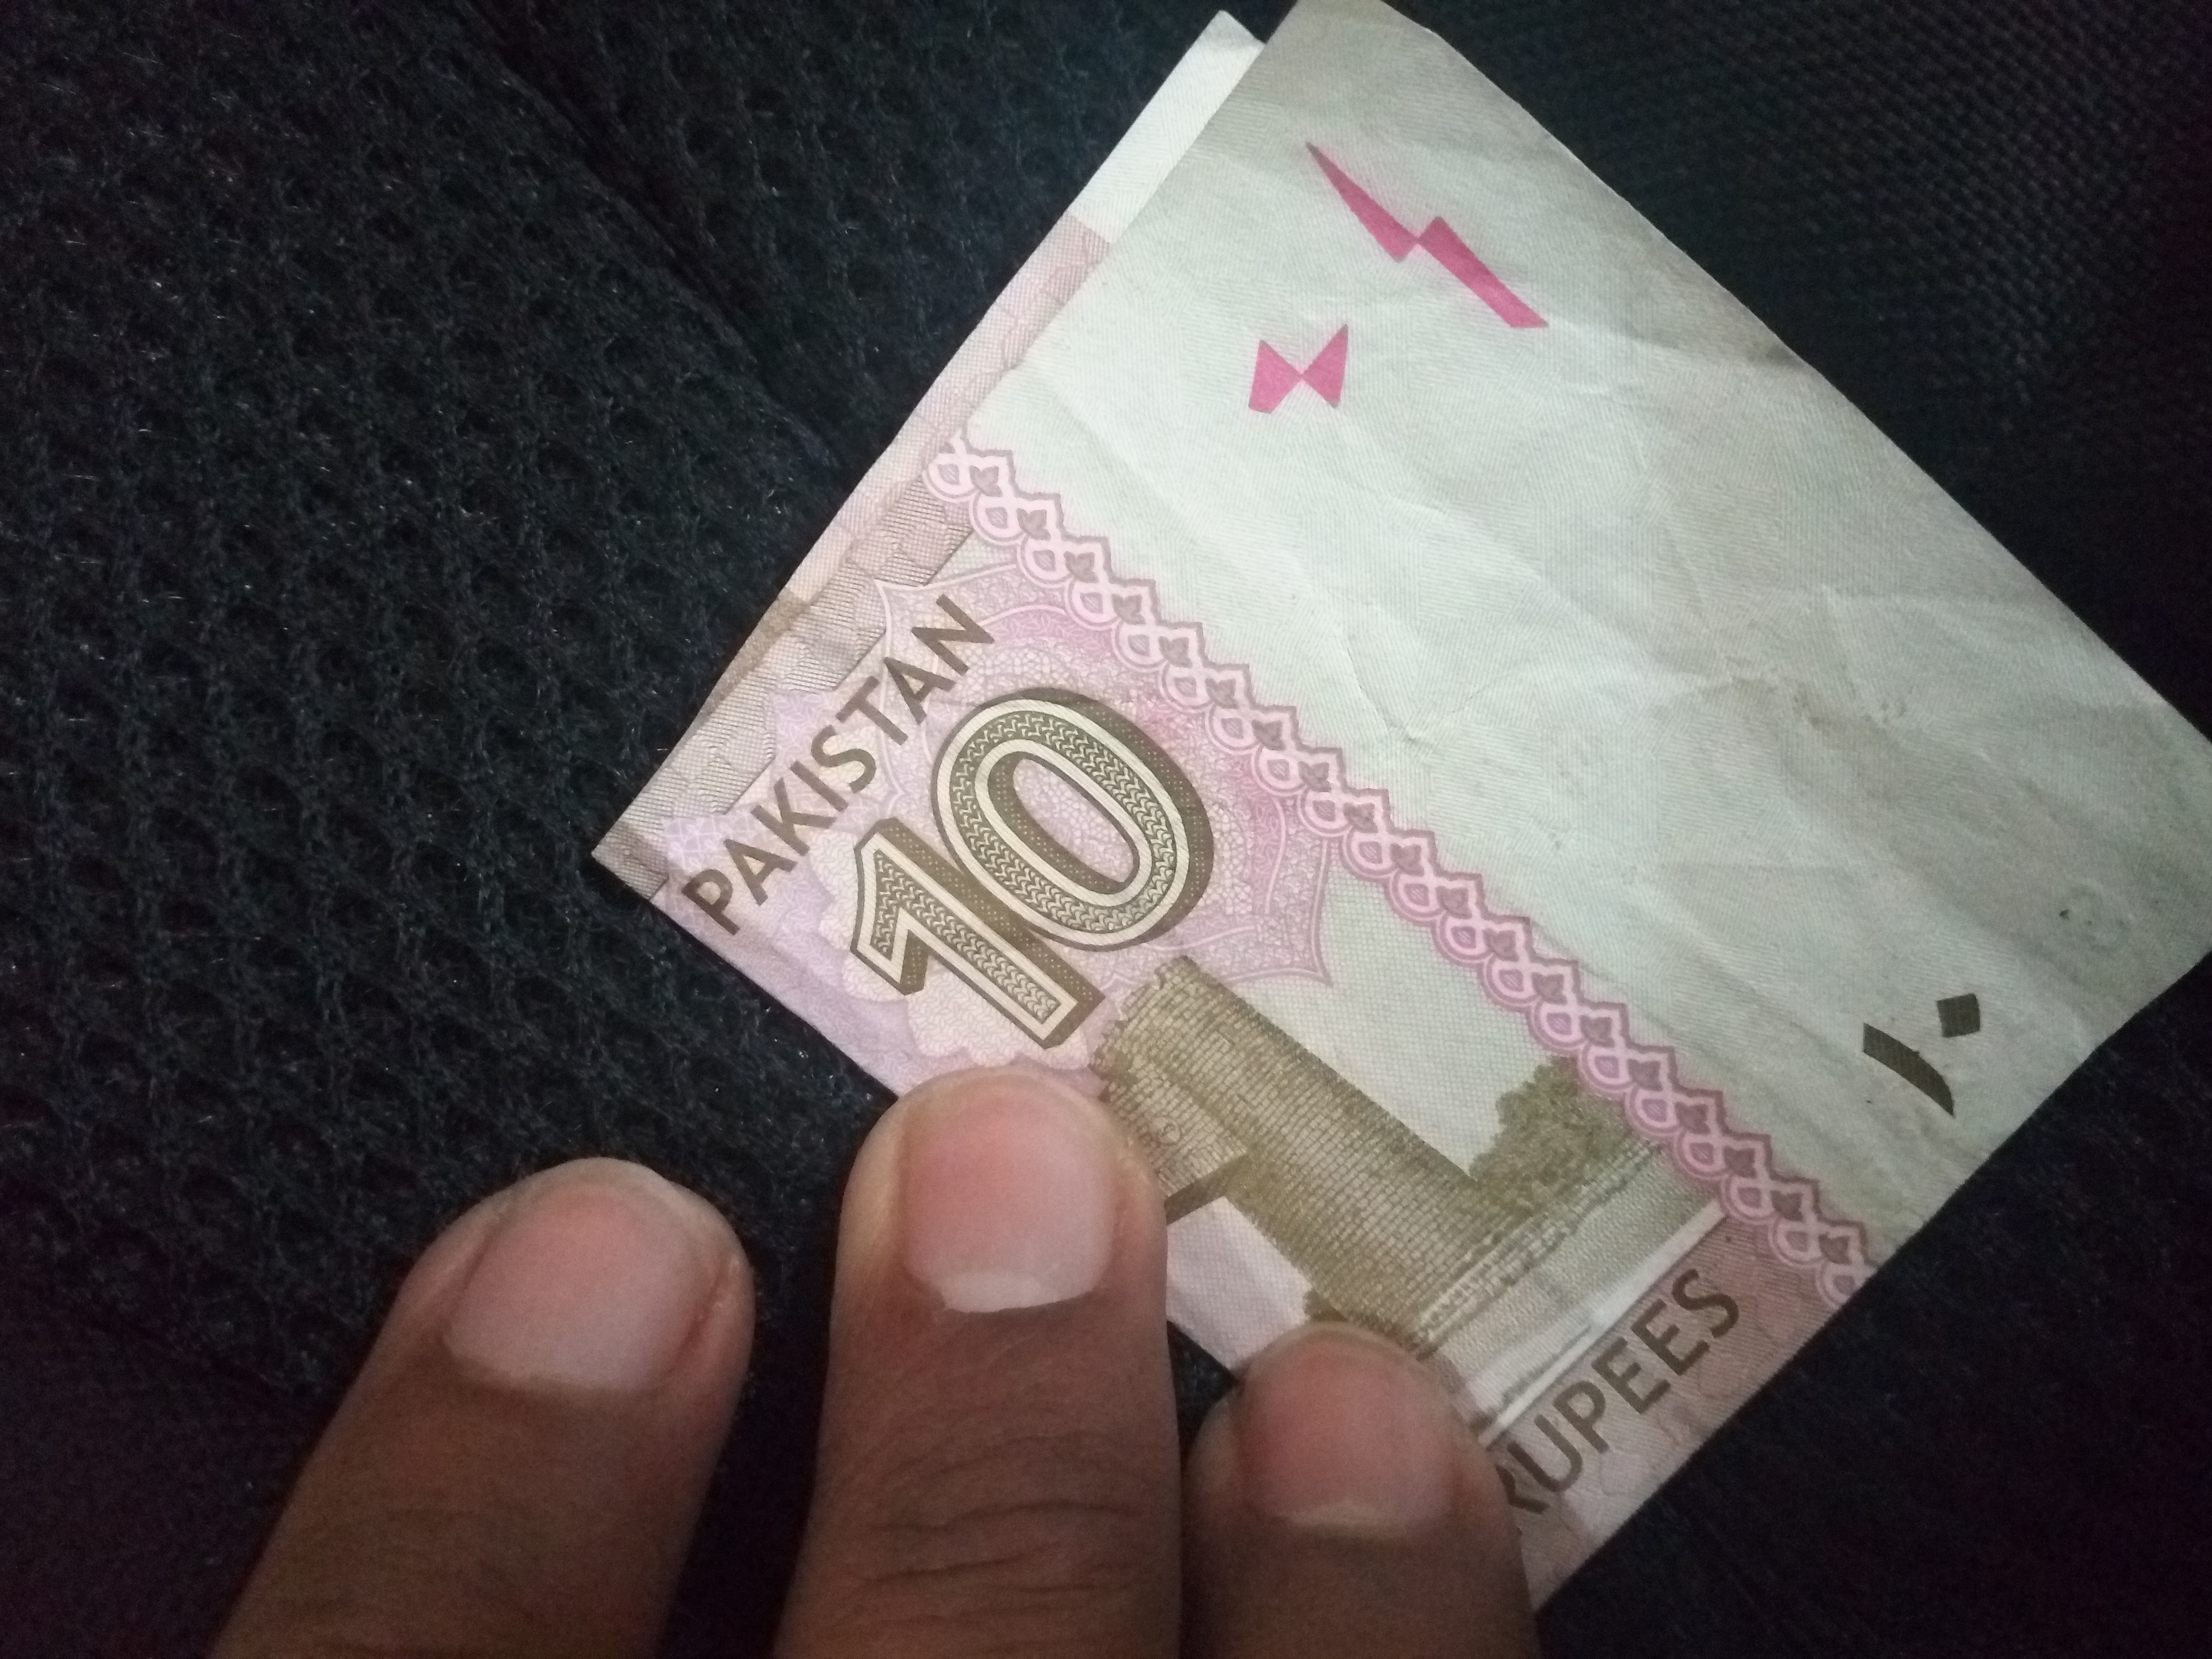10 rupee: (545, 35, 2179, 1638)
